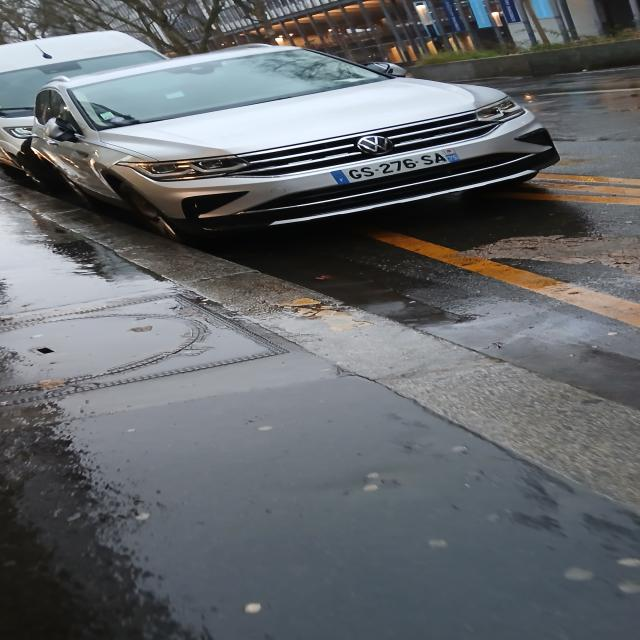EU: (324, 148, 461, 187)
France: (330, 170, 352, 185)
